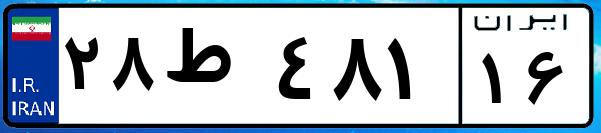1: (385, 28, 445, 110), (475, 38, 525, 113)
2: (57, 26, 110, 100)
4: (270, 28, 330, 110)
6: (525, 38, 570, 115)
8: (330, 28, 385, 110), (110, 28, 158, 98)
ط: (158, 20, 270, 120)
